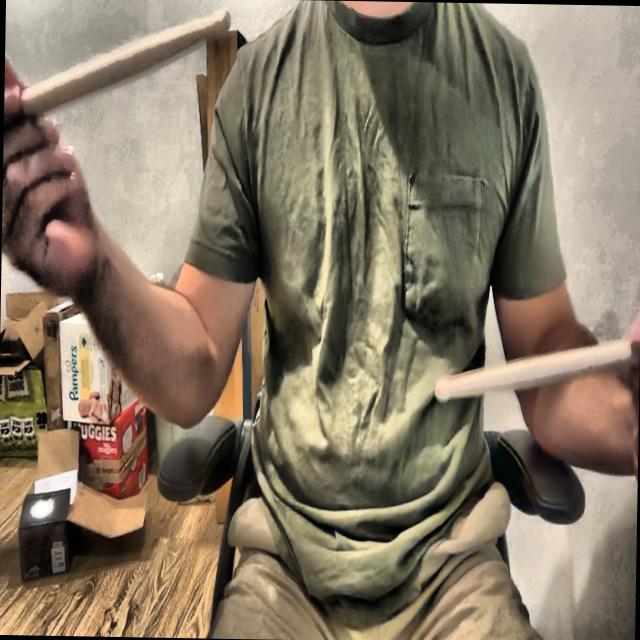Drumstick-Heads: (430, 356, 456, 406), (208, 8, 235, 44)
